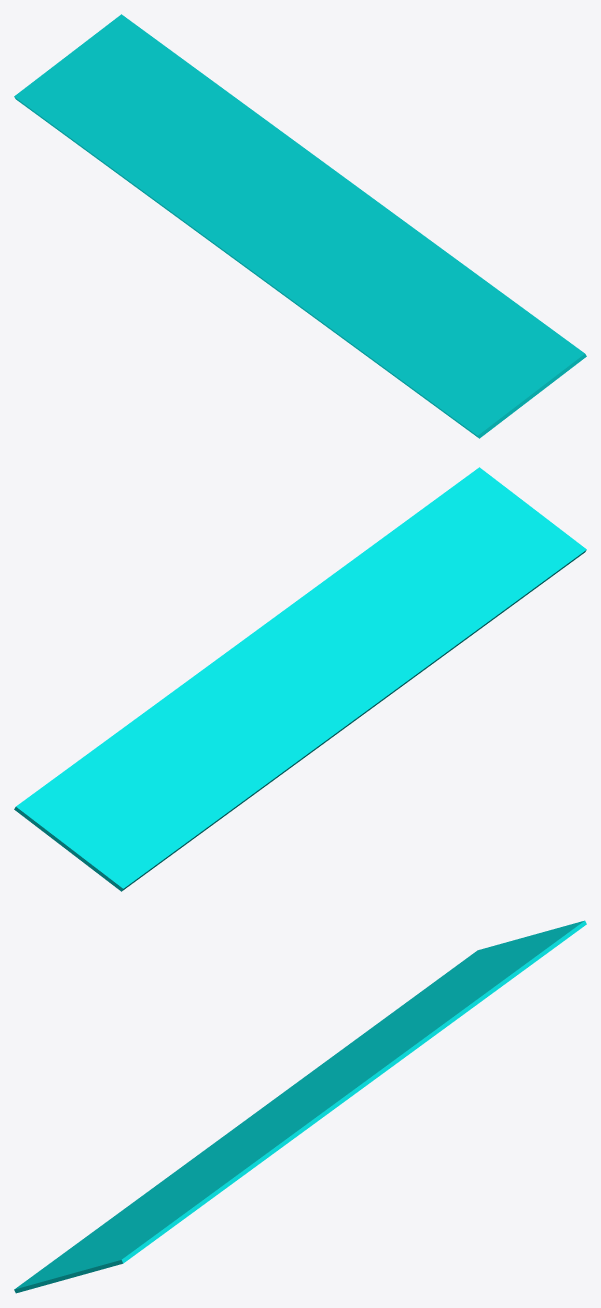
File: SPintGlassBack.fbx
The picture shows the model from 3 angles, top to bottom: view 1: azimuth 30°, elevation 25°; view 2: azimuth 150°, elevation 25°; view 3: azimuth 330°, elevation 25°; orthographic projection.
Parts seen in each view (by area): view 1: polySurface149; view 2: polySurface149; view 3: polySurface149.
Boxes of the visible parts, x1,y1,x2,y2 form: polySurface149: (14, 14, 586, 438); polySurface149: (14, 467, 586, 891); polySurface149: (14, 920, 586, 1293).
Bounding box in the file's own units: 135 × 69.86 × 988.
